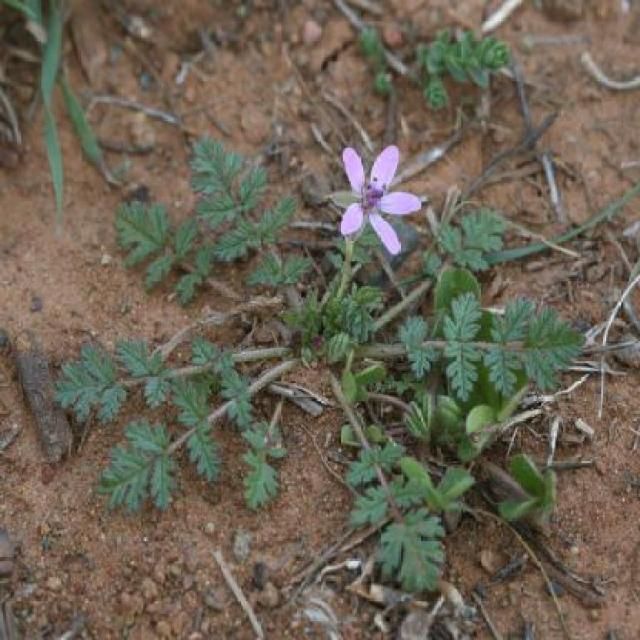flower: (325, 137, 433, 265)
